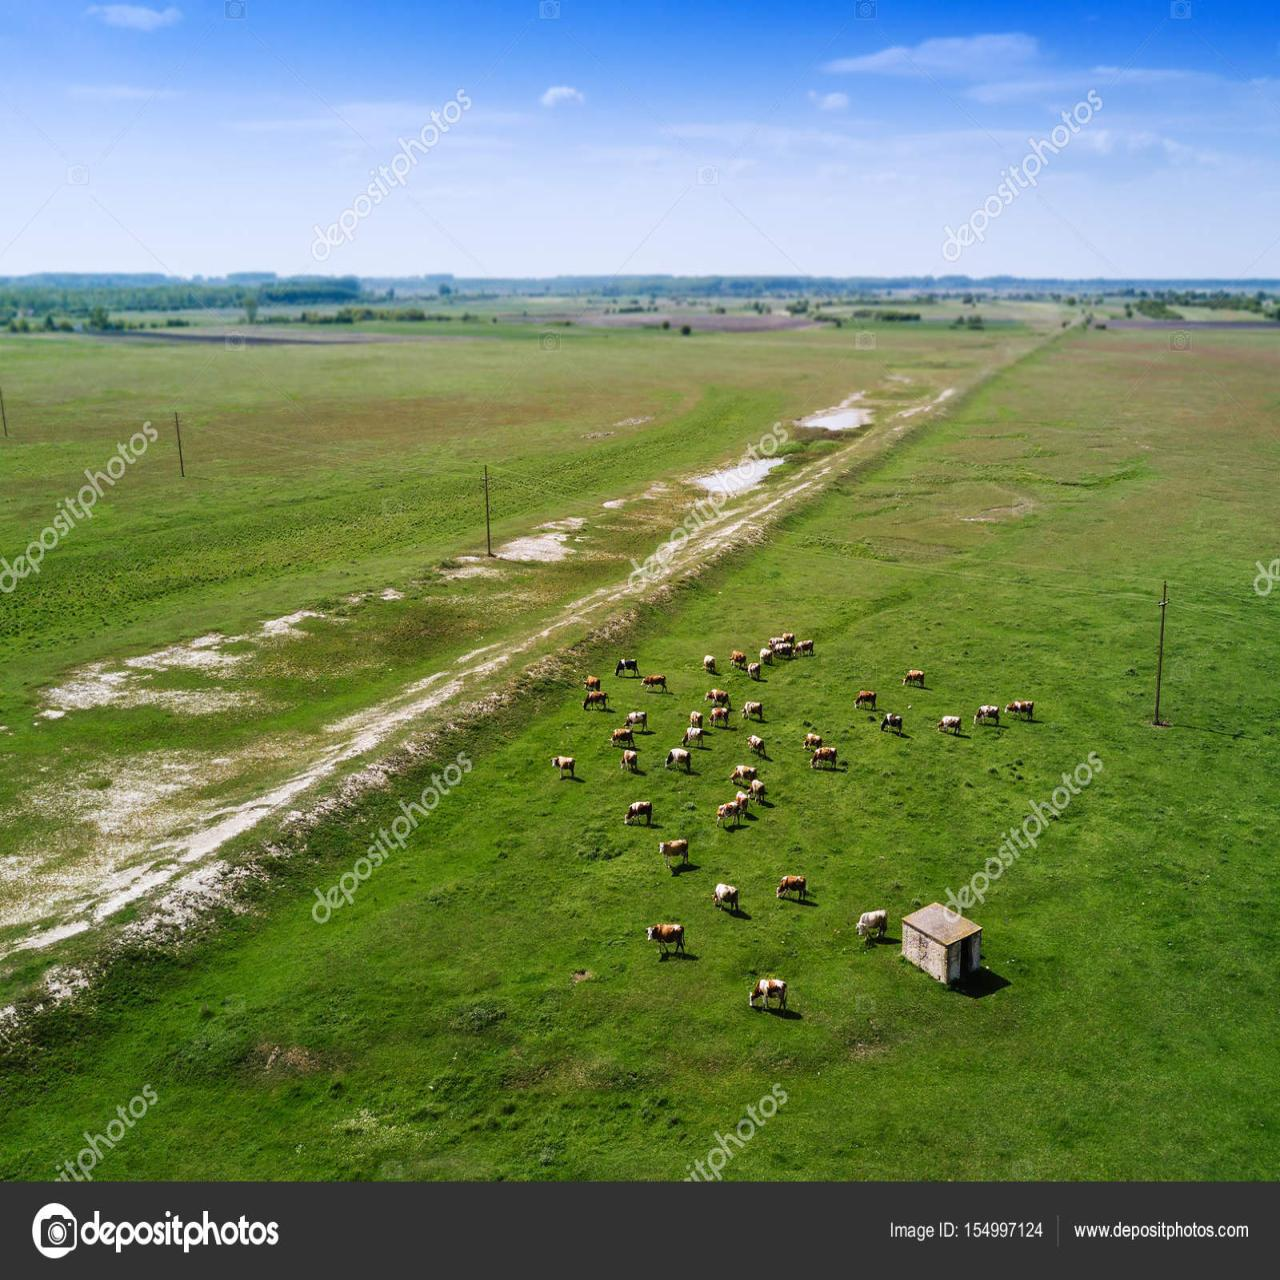cow: (748, 974, 794, 1014), (647, 919, 685, 956), (858, 907, 893, 940), (665, 835, 694, 872), (777, 874, 809, 905), (638, 669, 672, 696), (707, 701, 733, 736), (1003, 694, 1032, 726), (811, 744, 844, 771), (712, 883, 740, 913), (626, 798, 654, 829), (714, 794, 738, 828), (703, 680, 729, 710), (551, 756, 574, 789), (723, 760, 755, 783), (667, 745, 694, 772), (615, 655, 642, 682), (937, 714, 965, 740), (798, 727, 828, 751), (884, 708, 908, 736), (681, 727, 710, 750), (583, 692, 612, 714), (978, 702, 1001, 729), (608, 726, 632, 751), (852, 686, 876, 712), (686, 708, 709, 734), (791, 638, 818, 660), (626, 709, 651, 733), (745, 660, 767, 687), (904, 672, 928, 694), (580, 669, 602, 694), (747, 731, 771, 751), (617, 748, 641, 768), (750, 783, 772, 804), (702, 648, 717, 678), (731, 645, 747, 669)
